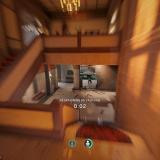Character: (88, 77, 92, 86)
Head: (89, 77, 91, 79)
